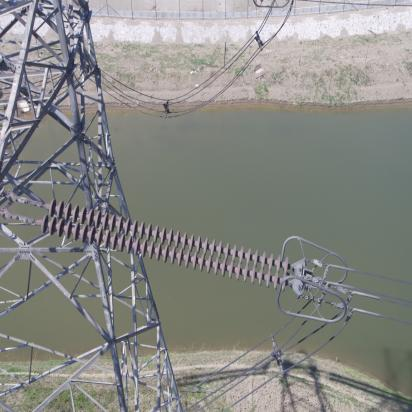insulator: (24, 197, 299, 294)
